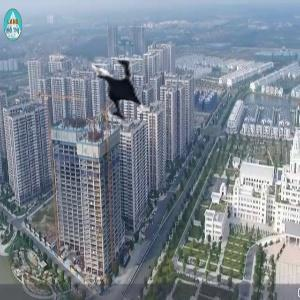drone: (69, 42, 167, 140)
